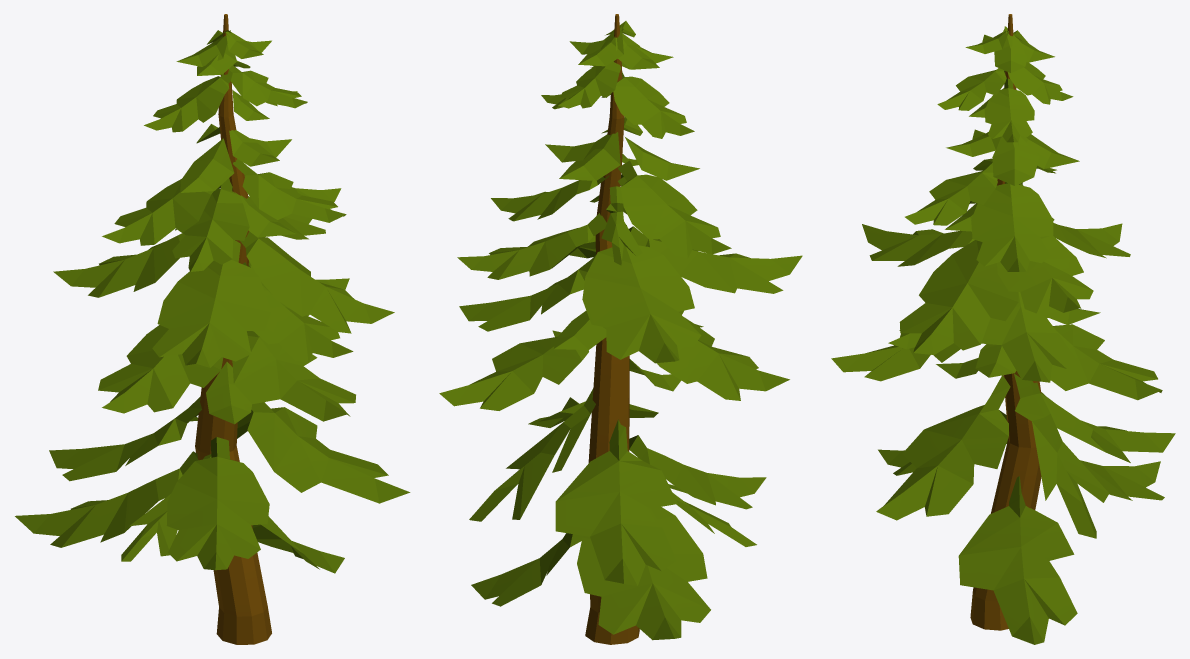
Rendered from source.glb.
3 renders of one model, left to right at view 1: azimuth 30°, elevation 25°; view 2: azimuth 150°, elevation 25°; view 3: azimuth 270°, elevation 25°, orthographic. The views are drawn at different scales.
Parts seen in each view (by area): view 1: coniferous_trees_09; view 2: coniferous_trees_09; view 3: coniferous_trees_09.
Boxes of the visible parts, x1,y1,x2,y2 form: coniferous_trees_09: (15, 14, 410, 644); coniferous_trees_09: (439, 14, 802, 644); coniferous_trees_09: (831, 14, 1175, 644).
Bounding box in the file's own units: 0.8715 × 1.79 × 0.9322.
